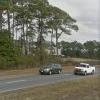Car: (33, 60, 65, 80)
